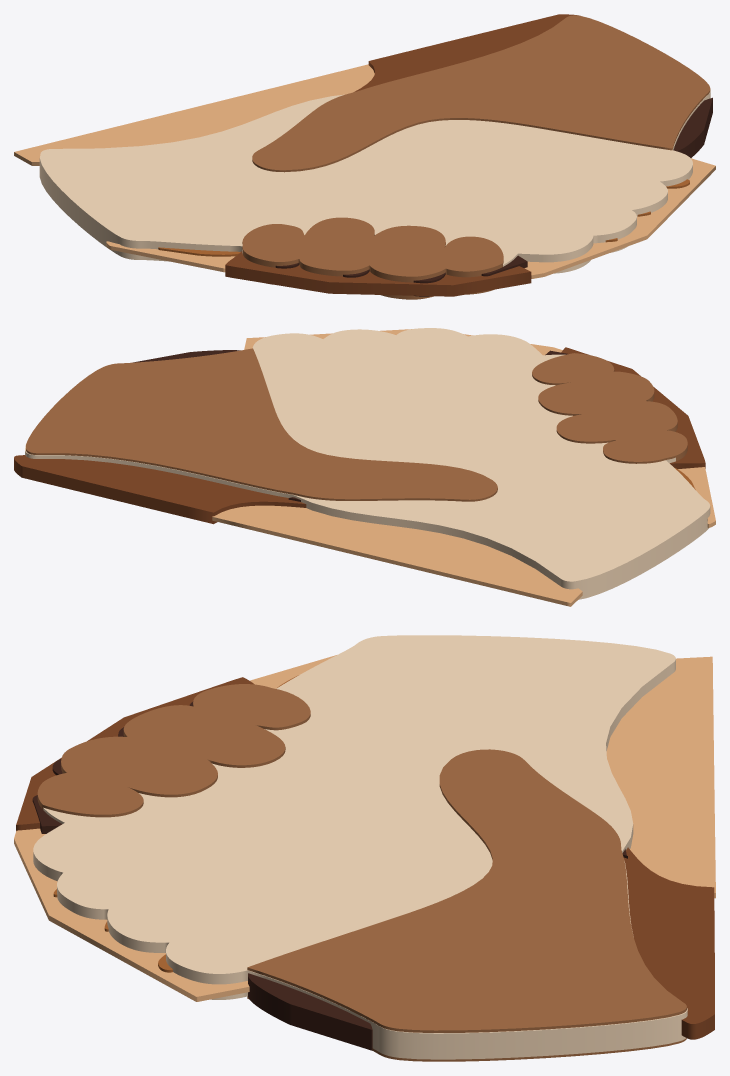
The model's file is emoji_u1faf1_1f3fb_200d_1faf2_1f3fe.glb.
The picture shows the model from 3 angles, top to bottom: view 1: azimuth 30°, elevation 25°; view 2: azimuth 150°, elevation 25°; view 3: azimuth 270°, elevation 25°; orthographic projection. The views are drawn at different scales.
Visible parts, largest first — view 1: emoji_u1faf1_1f3fb_200d_1faf2_1f3fe; view 2: emoji_u1faf1_1f3fb_200d_1faf2_1f3fe; view 3: emoji_u1faf1_1f3fb_200d_1faf2_1f3fe.
Boxes of the visible parts, x1,y1,x2,y2 form: emoji_u1faf1_1f3fb_200d_1faf2_1f3fe: (14, 14, 715, 299); emoji_u1faf1_1f3fb_200d_1faf2_1f3fe: (14, 328, 715, 606); emoji_u1faf1_1f3fb_200d_1faf2_1f3fe: (14, 635, 715, 1061).
Bounding box in the file's own units: 0.0332 × 0.0012 × 0.0244.
